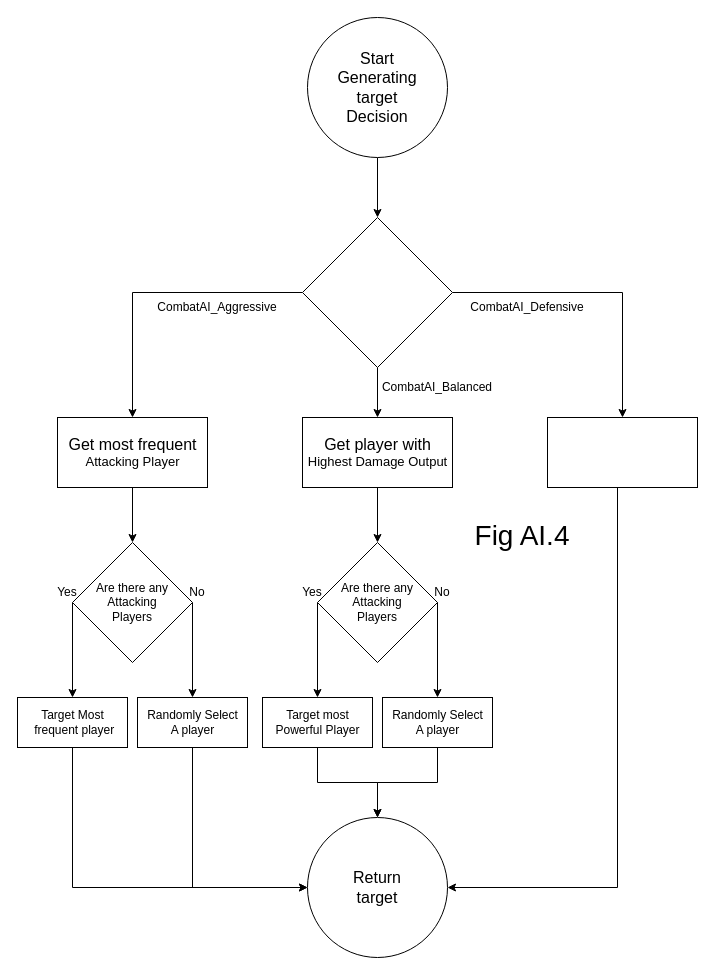
Some shapes in this 715 by 975 pixel diagram are drawn without their labels. The shapes that lost their labels are listed below. From the top down, each one's box as (x1, y1, x2, y2) in pixels, then its label:
(302, 216, 452, 368): CombatAI Current State
(546, 416, 698, 488): Get player with Lowest Current Health Points
